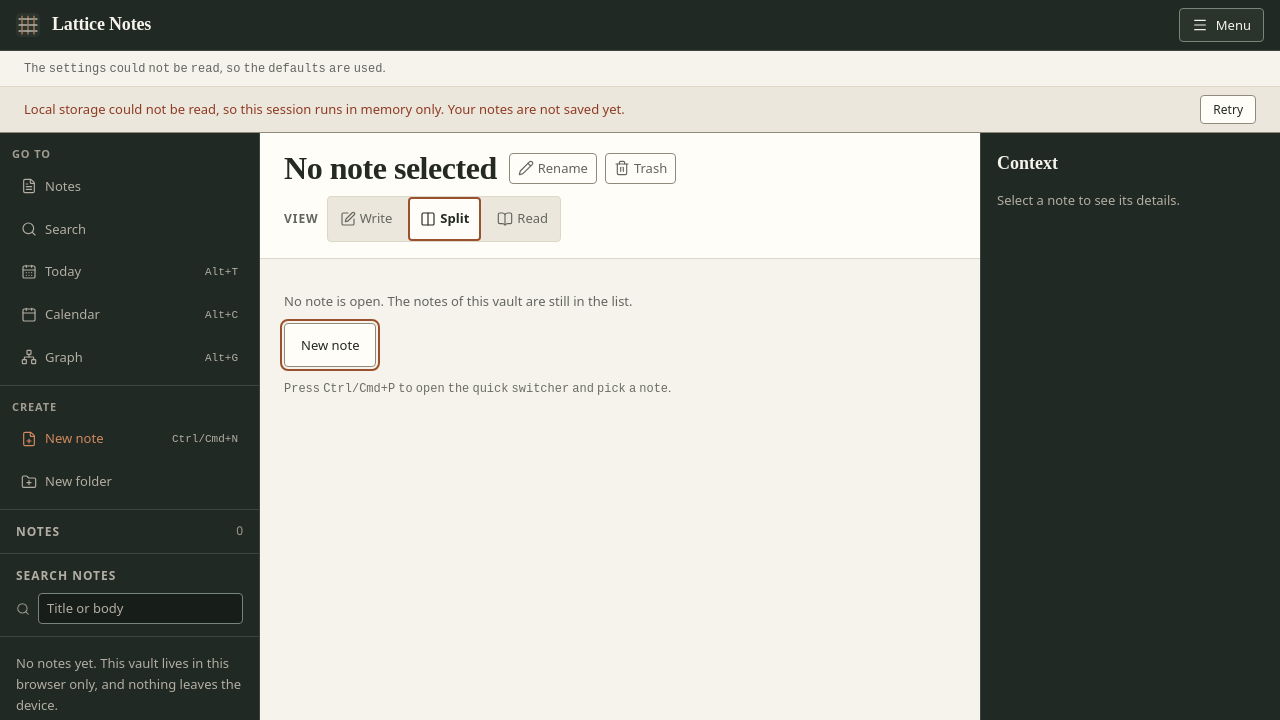
import and export › keeps the export control reachable while the storage banner is showing
This screenshot has width=1280, height=720.
Click the heading "Menu".
click(1221, 25)  # box 1179,8 -> 1264,42
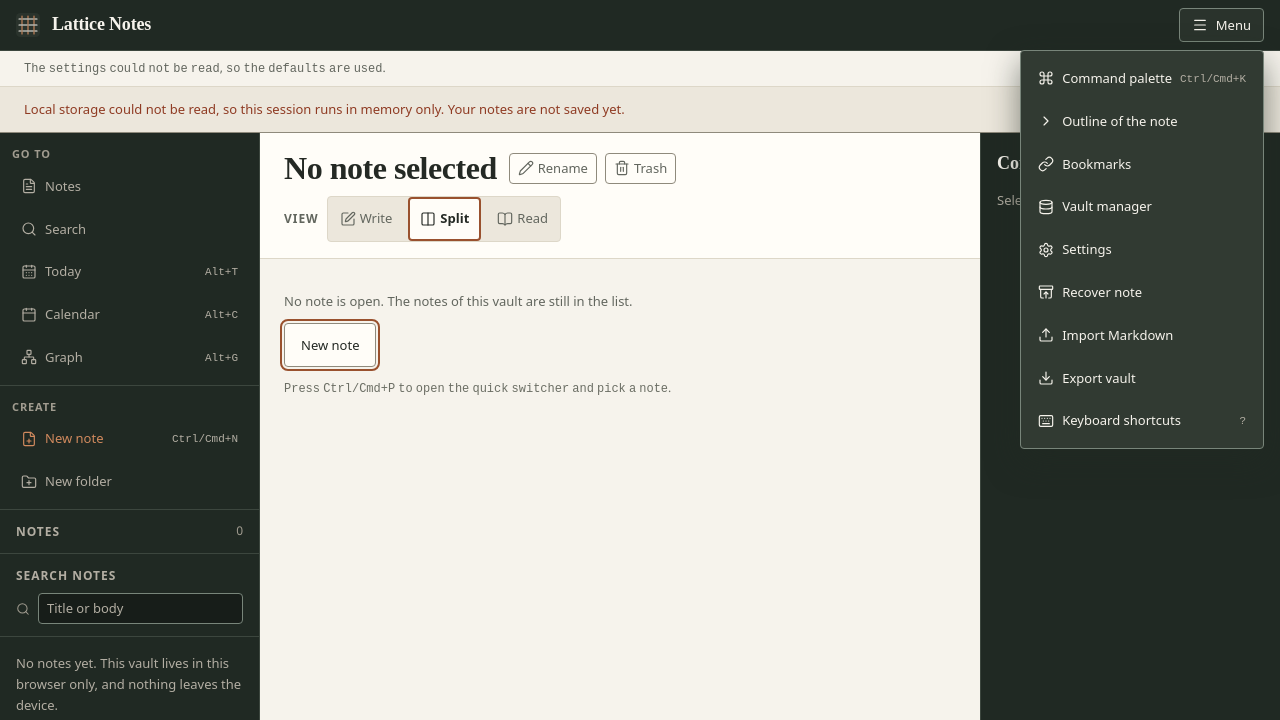
Expected: the button "Export vault" is shown, 1029,359 -> 1255,397
